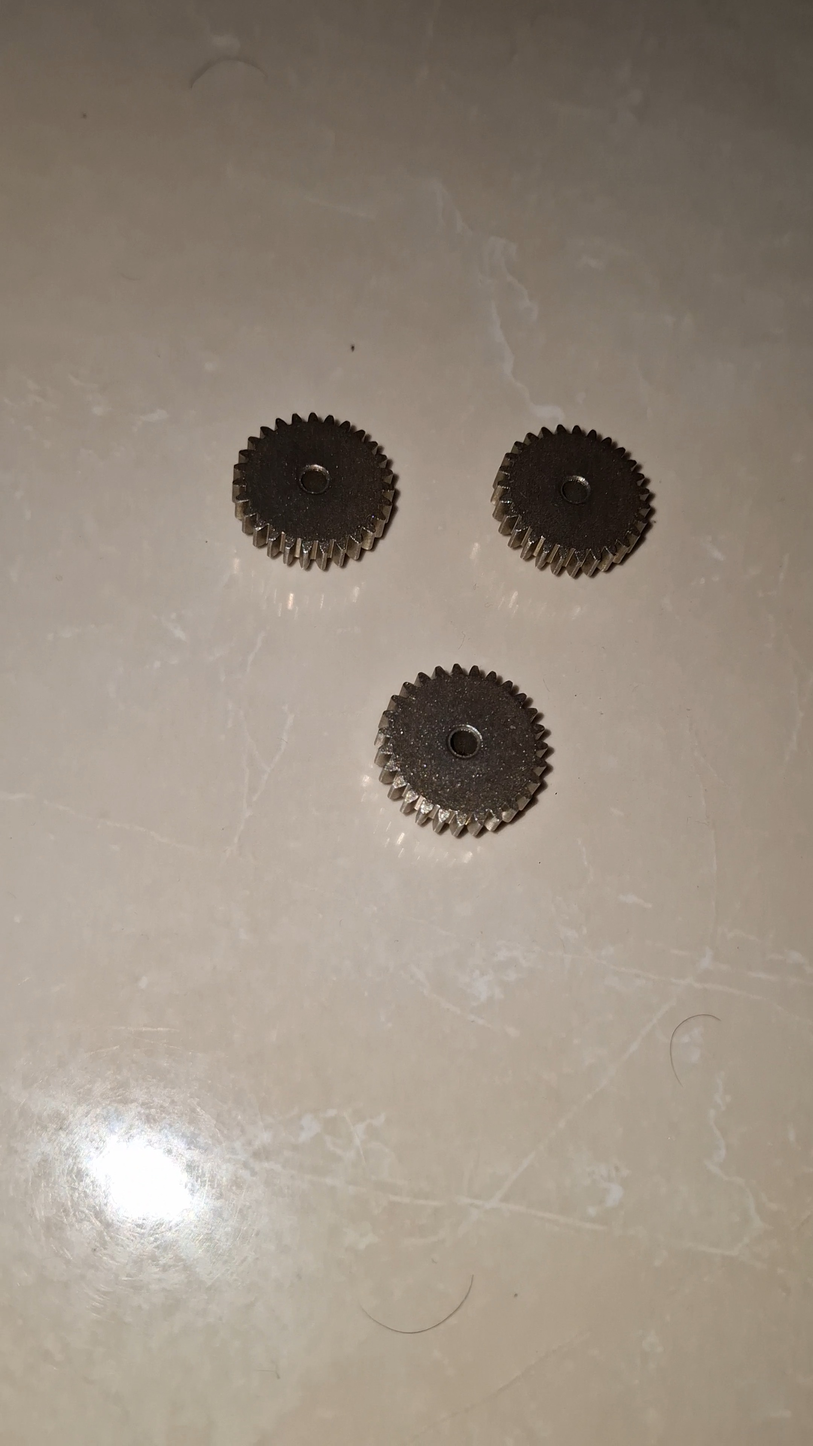spur gear: (376, 665, 547, 836), (233, 413, 394, 568), (492, 426, 650, 575)
